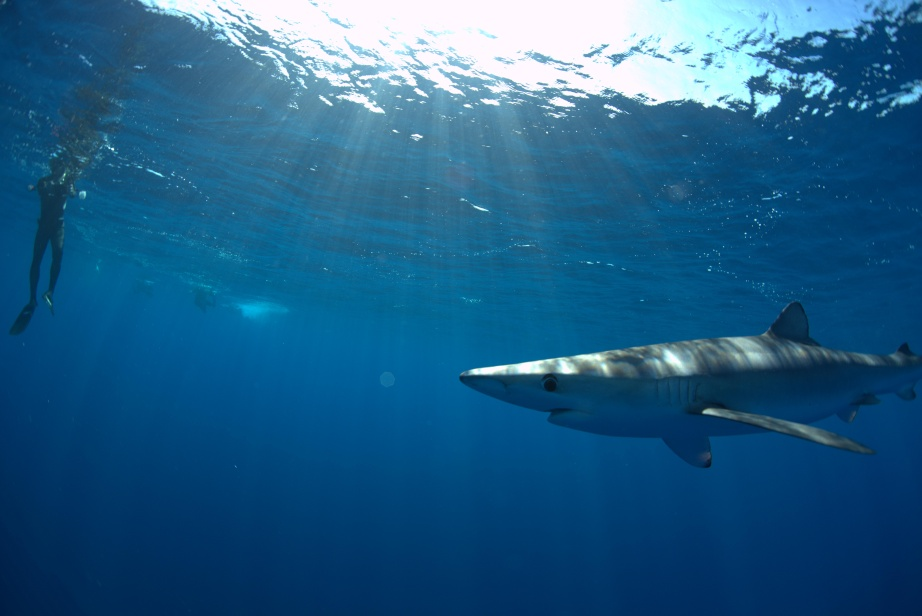Azul: (435, 263, 922, 486)
